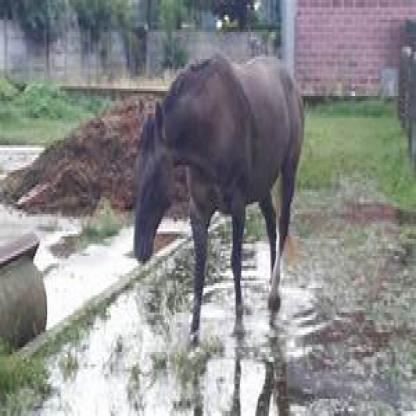horse: (133, 52, 308, 340)
